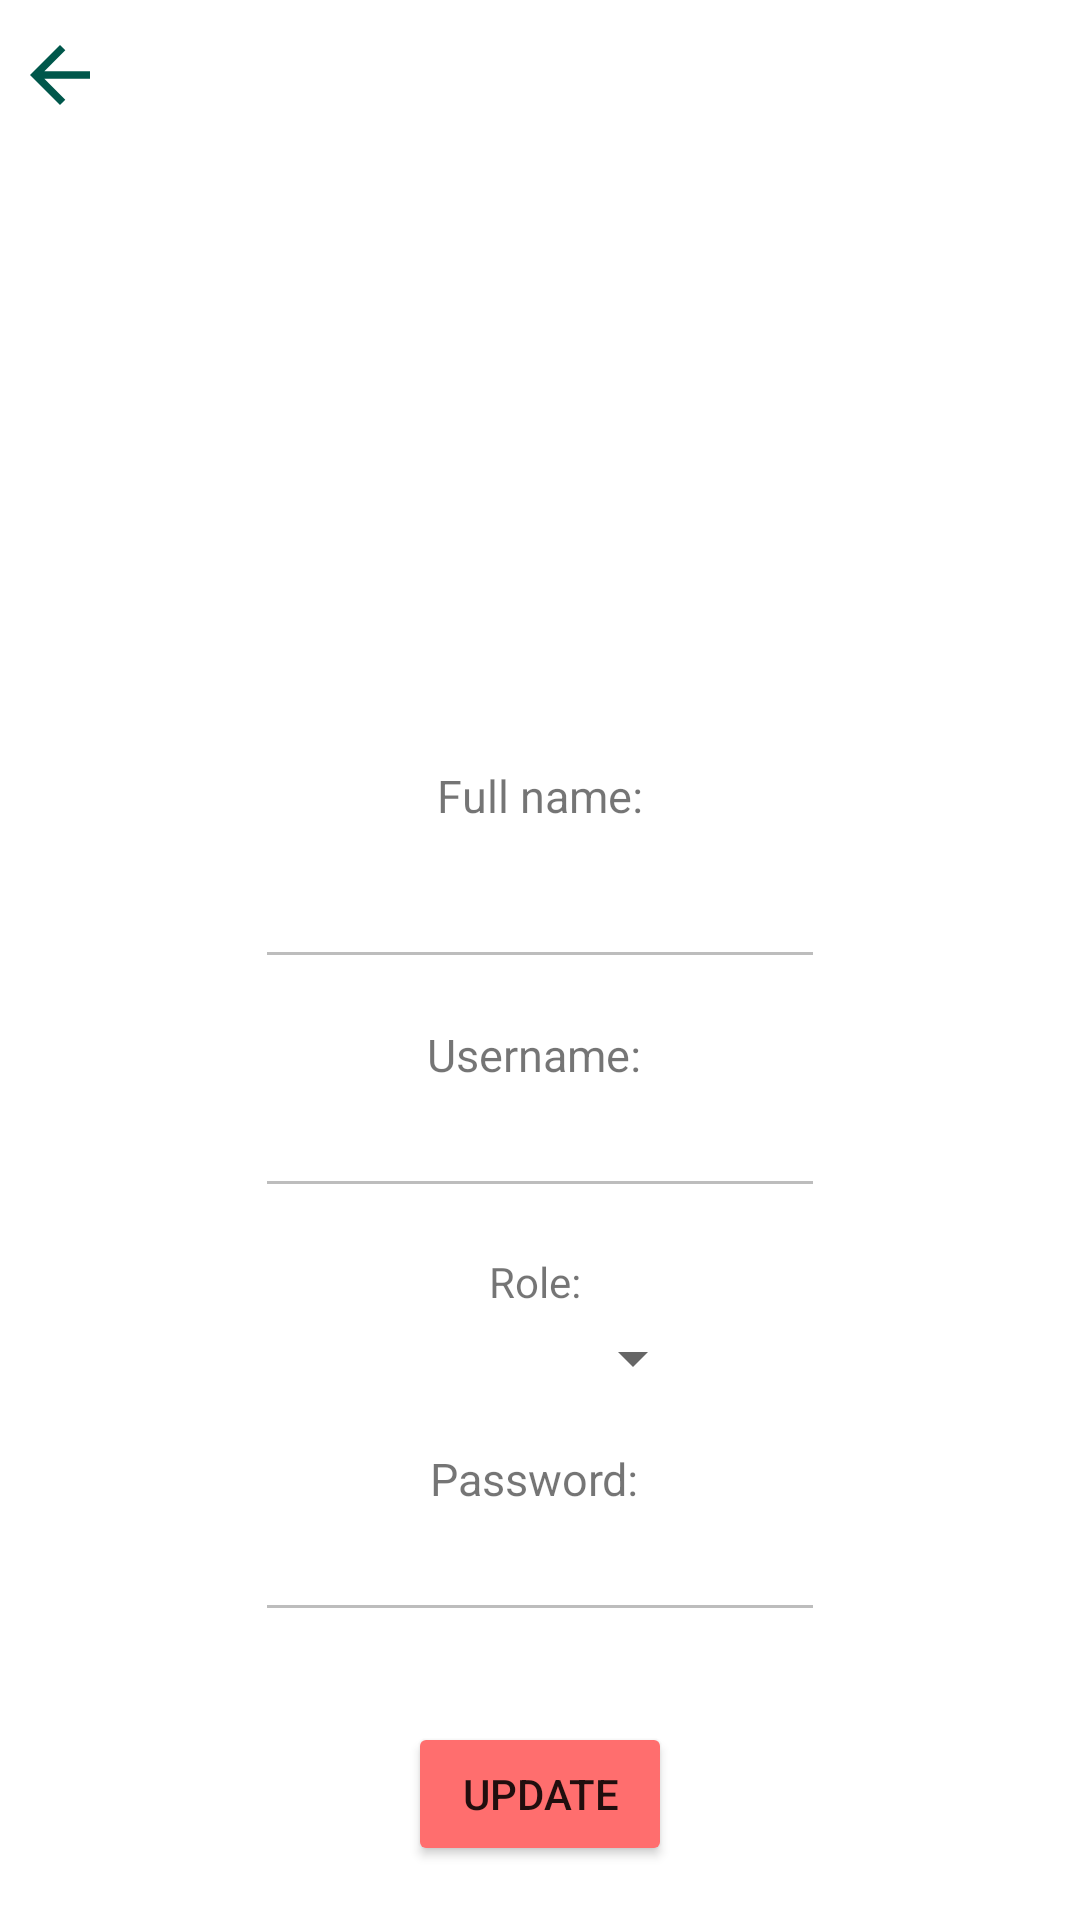

Point at icon controls on the screen. Image size 1080w x 1920h, points as (x,y).
arrow back: (60,75)
